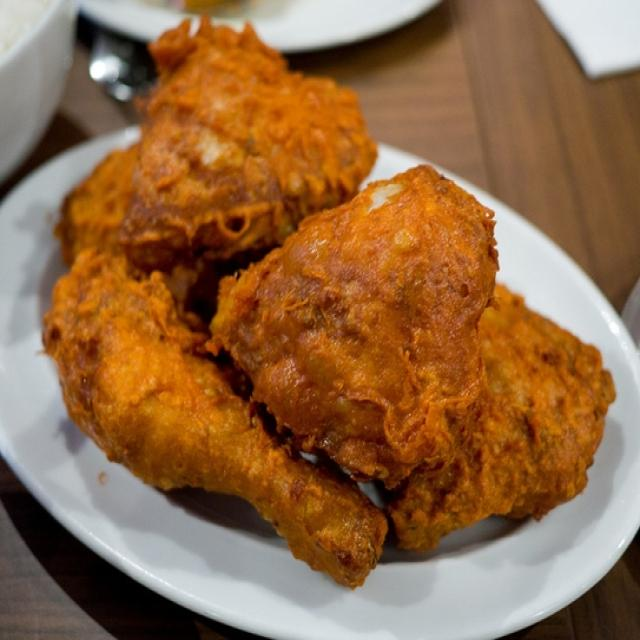鸡肉料理 含炸鸡: (35, 27, 601, 591)
